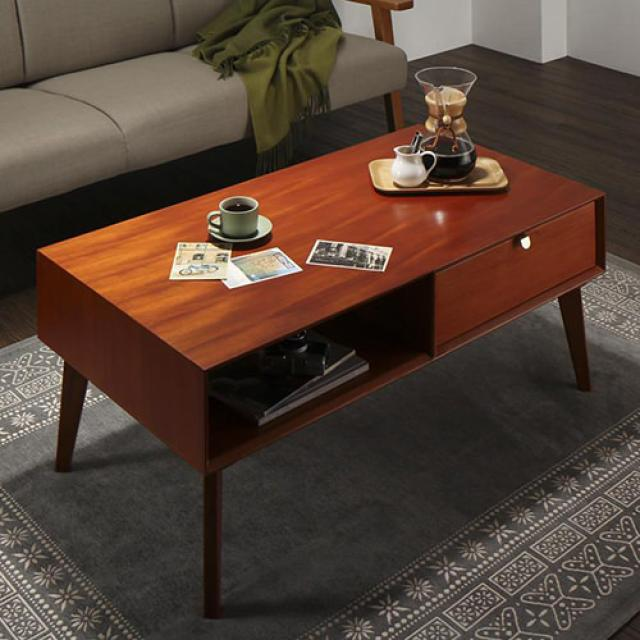vintage shelf: (32, 123, 601, 616)
